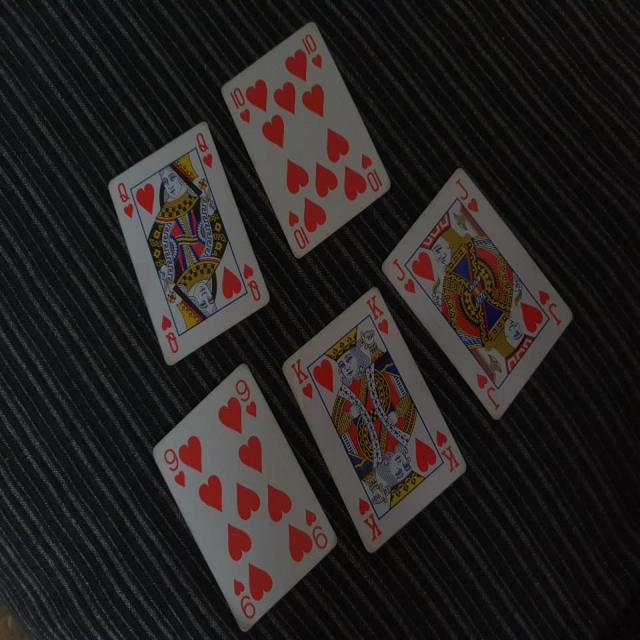10 Hearts: (218, 17, 396, 259)
9 Hearts: (137, 347, 343, 640)
J Hearts: (374, 162, 575, 421)
K Hearts: (278, 282, 468, 557)
Q Hearts: (104, 119, 277, 372)
